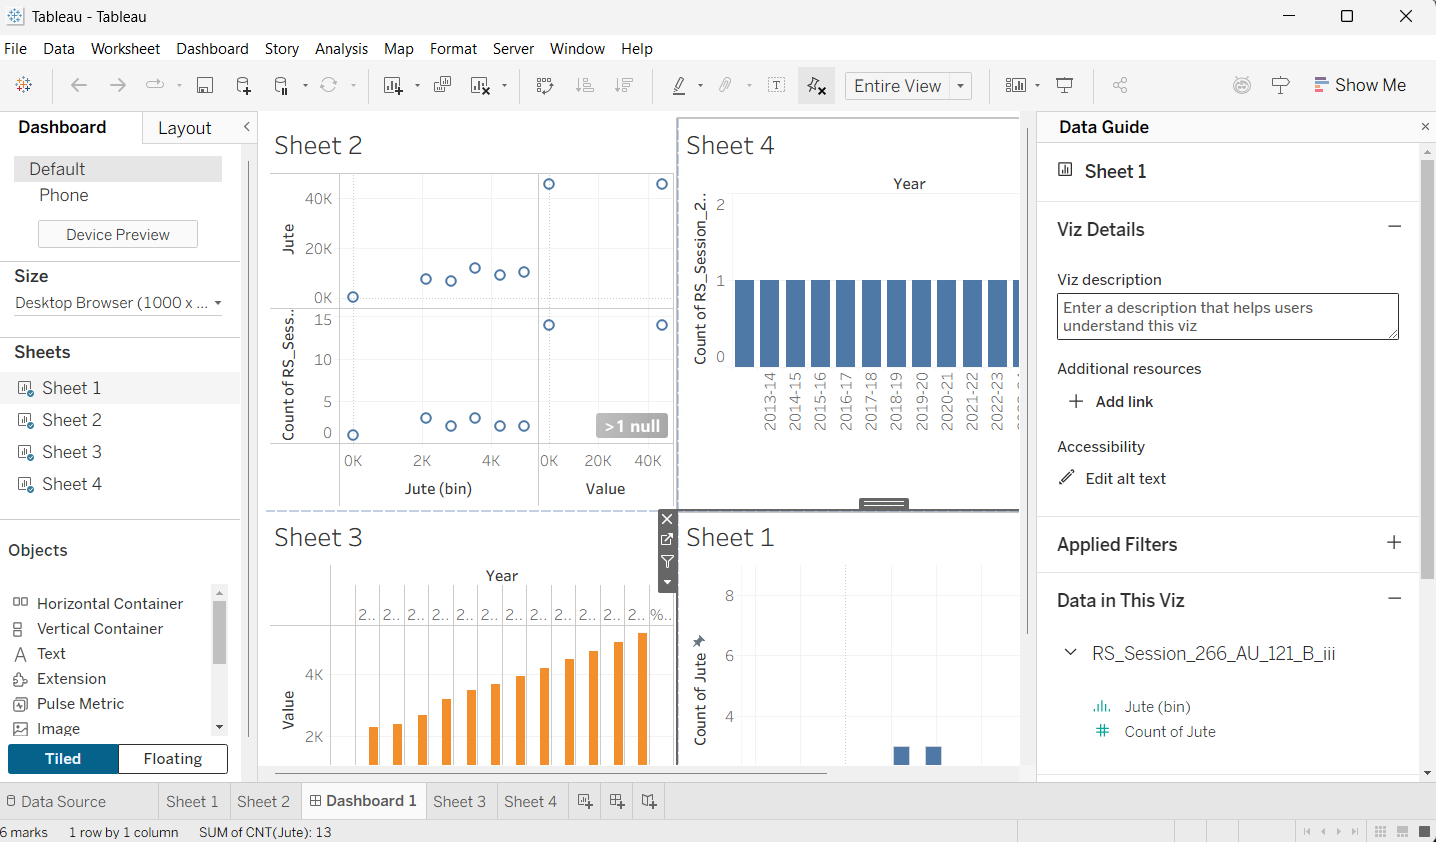

This screenshot's page, from the dashboard's own definition file:
{"tool":"tableau","page":{"name":"Dashboard 1","canvas":[1000,800],"ordinal":0},"visuals":[{"type":"worksheet","title":"Sheet 2","mark":"Automatic","rows":["Jute","RS_Session_266_AU_121_B_iii.csv_D2B32ED66243452E892A9BE62ABC"],"cols":["Jute (bin)"],"box":[8,8,412,392]},{"type":"worksheet","title":"Sheet 4","mark":"Automatic","rows":["RS_Session_266_AU_121_B_iii.csv_D2B32ED66243452E892A9BE62ABC"],"cols":["Year"],"box":[420,8,412,392]},{"type":"legend","title":"Sheet 3","param":"[federated.0m1avji1f1l24a18cyhcd0lsuhfk].[:Measure Names]","box":[832,8,160,72]},{"type":"worksheet","title":"Sheet 3","mark":"Automatic","cols":["Year"],"box":[8,400,412,392]},{"type":"worksheet","title":"Sheet 1","mark":"Automatic","rows":["Jute"],"cols":["Jute (bin)"],"box":[420,400,412,392]}]}

Visuals, with their boxes on the page's 1000x800 design canvas (x1, y1, x2, y2). These are canvas units, not pixel positions in the 1436x842 screenshot, which may show the page scaled, cropped or inside an application window:
"Sheet 2" worksheet: crop(8, 8, 420, 400)
"Sheet 4" worksheet: crop(420, 8, 832, 400)
"Sheet 3" legend: crop(832, 8, 992, 80)
"Sheet 3" worksheet: crop(8, 400, 420, 792)
"Sheet 1" worksheet: crop(420, 400, 832, 792)
